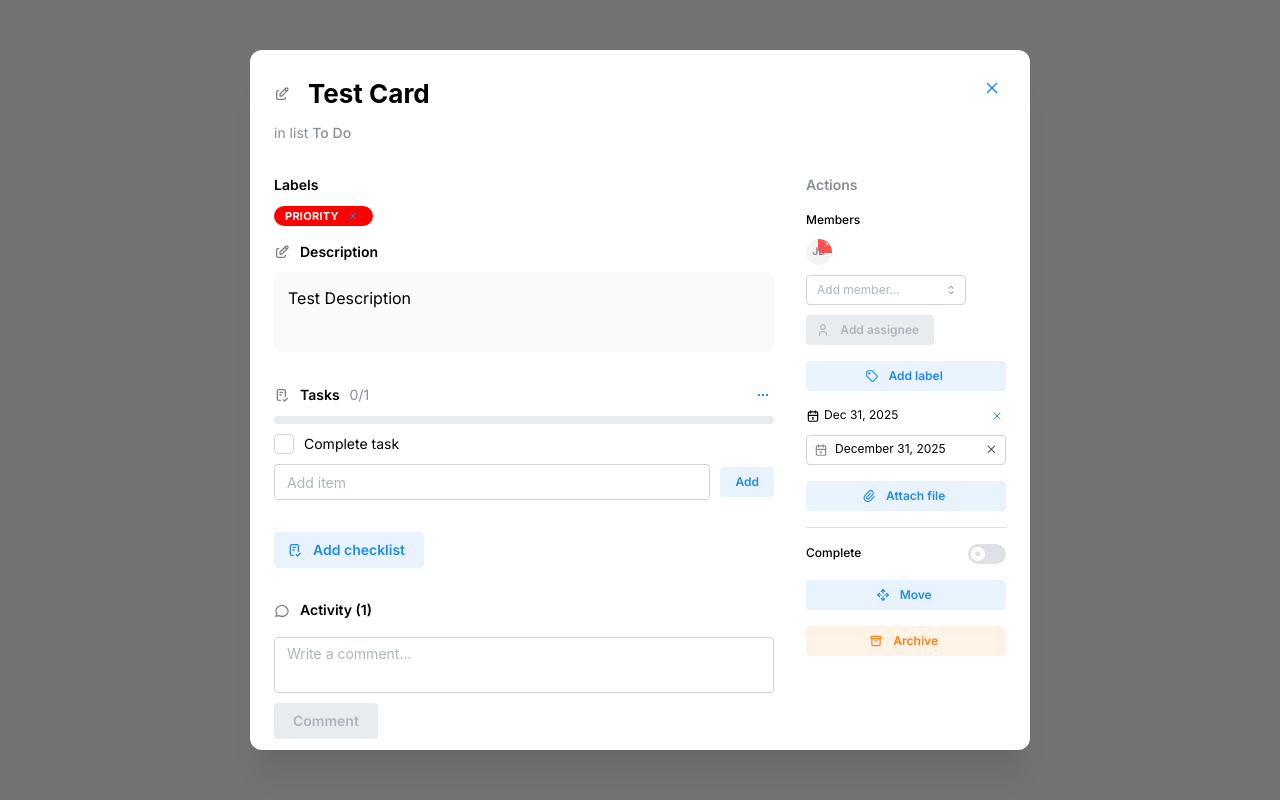
it: CardModal Component › Auto-save Functionality › should show saving indicator during updates
The image size is (1280, 800).
Step 1. Click the heading "Test Card" → (369, 94), box [300,74,438,113]
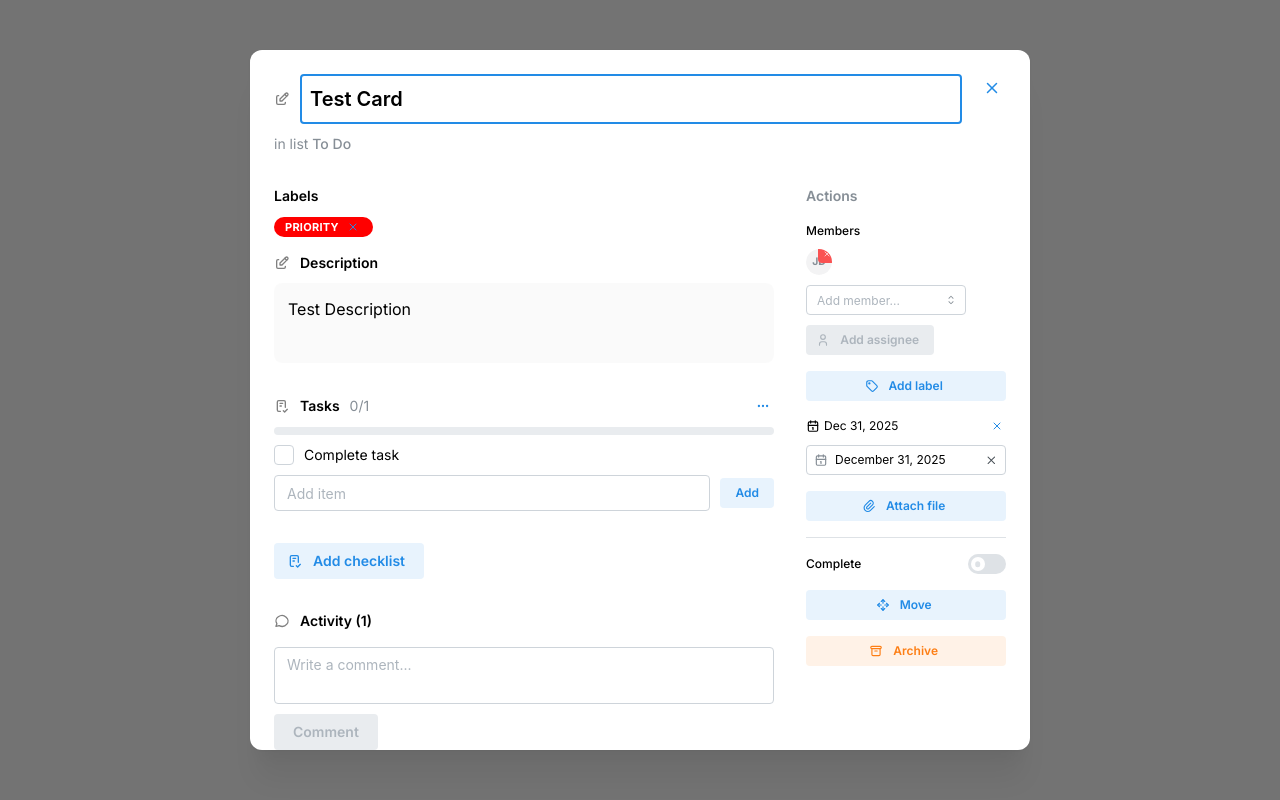
Step 2. Replace the text in the field showing "Test Card" with "Saving..." → (631, 99), box [300,74,962,124]
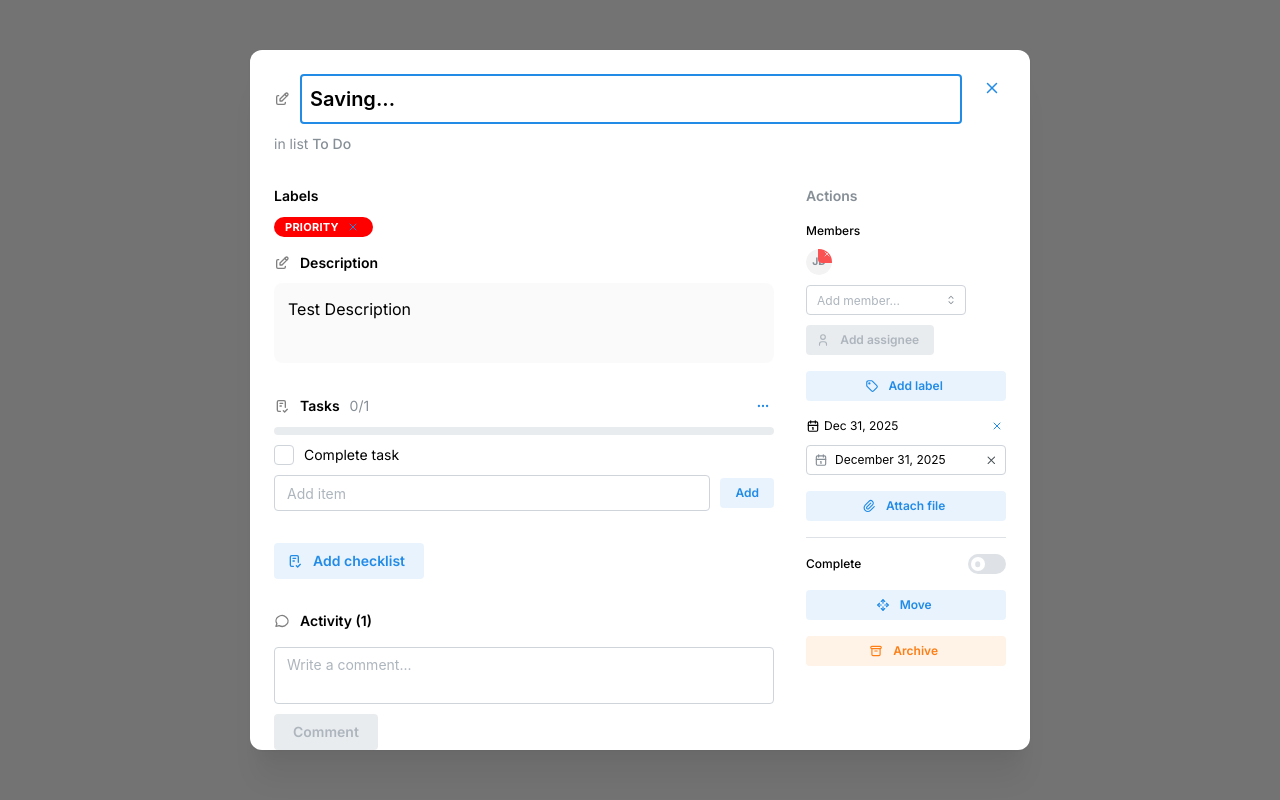
Step 3. Leave the field showing "Test Card", box [300,74,962,124]
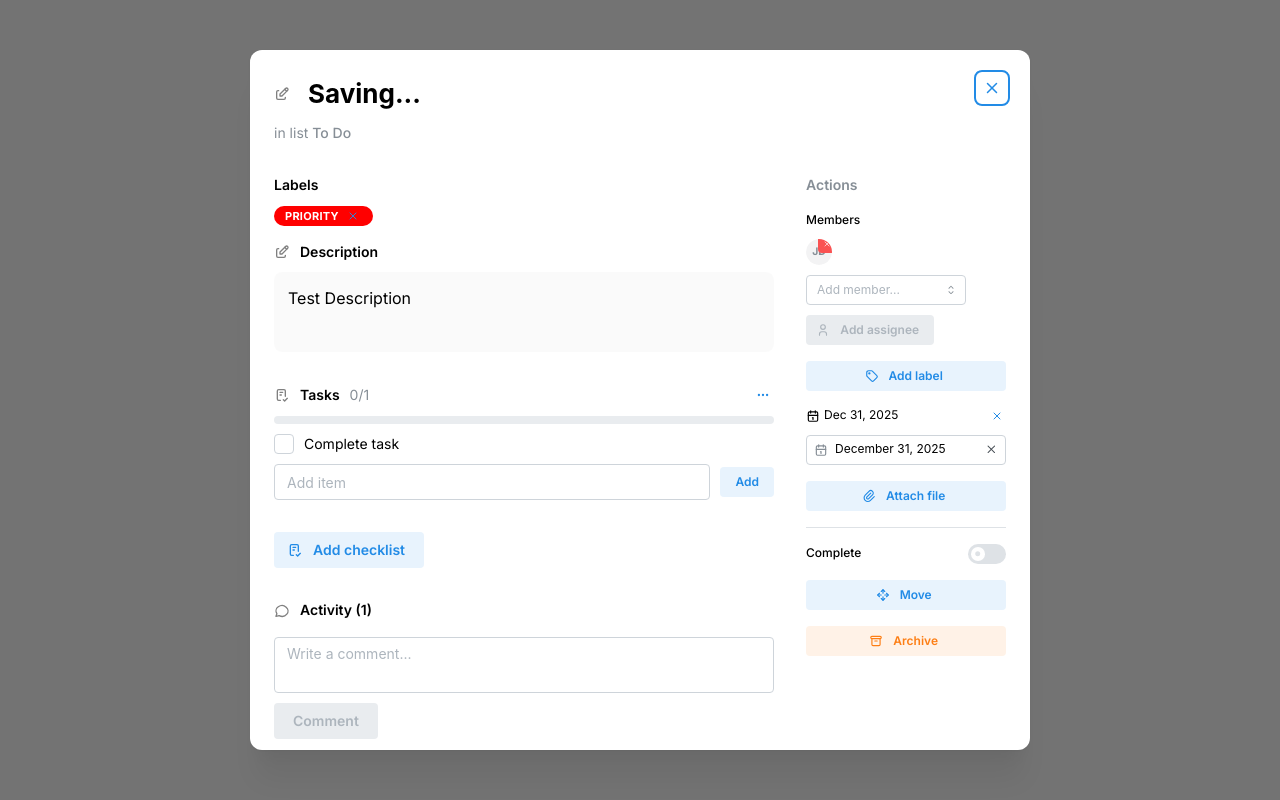
Result: the heading "Saving..." is shown at [300,74,429,113]
